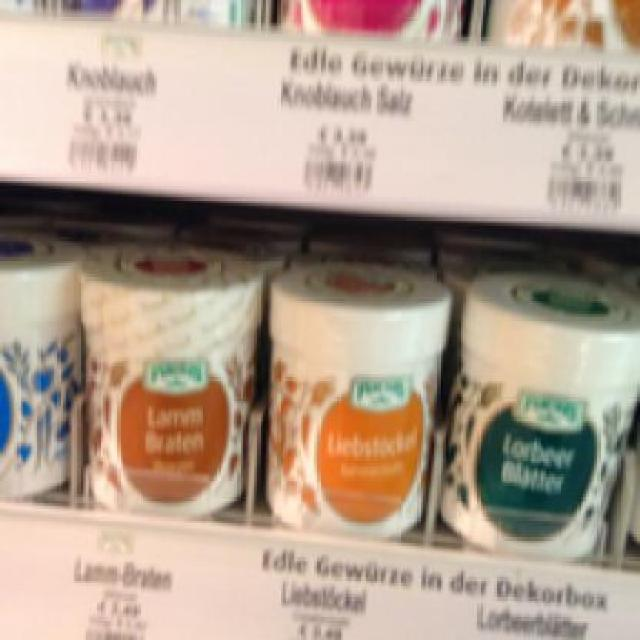Spices: (434, 268, 634, 554), (70, 236, 264, 509), (262, 260, 448, 540)
